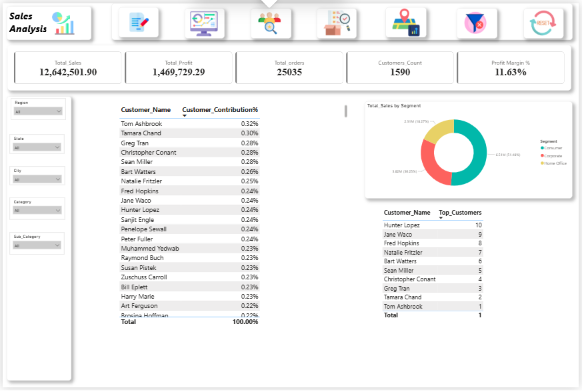

This screenshot's page, from the dashboard's own definition file:
{"tool":"powerbi","page":{"name":"Root_Cause_Analysis","canvas":[1280,720],"ordinal":1},"visuals":[{"type":"shape","box":[50,20,1195,105],"z":0},{"type":"shape","box":[423.3,360,821.7,348.3],"z":1000},{"type":"shape","box":[50,146.7,346.7,561.7],"z":2000},{"type":"shape","box":[423.3,146.7,821.7,188.3],"z":3000},{"type":"actionButton","box":[0,0,100,40],"z":4000},{"type":"cardVisual","fields":{"Data":["GlobalSuperStore.Total_Sales","GlobalSuperStore.Total_Profit","GlobalSuperStore.Total_orders","GlobalSuperStore.Total_Quantity","GlobalSuperStore.Profit Margin %","GlobalSuperStore.Recency"]},"box":[50,20,1195,105],"z":5000},{"type":"clusteredBarChart","fields":{"Category":["GlobalSuperStore.Category","GlobalSuperStore.Sub_Category","GlobalSuperStore.Product_Name"],"Y":["GlobalSuperStore.Total_Sales","GlobalSuperStore.Total_Profit"]},"box":[423.3,160,821.7,163.3],"z":6000},{"type":"clusteredColumnChart","fields":{"Category":["GlobalSuperStore.Segment"],"Y":["GlobalSuperStore.Total_Sales","GlobalSuperStore.Total_orders"]},"box":[65,160,318.3,536.7],"z":7000},{"type":"pivotTable","fields":{"Rows":["GlobalSuperStore.Region","GlobalSuperStore.State","GlobalSuperStore.City","GlobalSuperStore.Segment","GlobalSuperStore.Customer_Name","GlobalSuperStore.Category","GlobalSuperStore.Sub_Category","GlobalSuperStore.Product_Name"],"Values":["GlobalSuperStore.Total_Sales","GlobalSuperStore.Total_Profit","GlobalSuperStore.Total_orders","GlobalSuperStore.Total_Quantity","GlobalSuperStore.Profit Margin %","GlobalSuperStore.Average_Discount%","GlobalSuperStore.Recency"]},"box":[423.3,360,821.7,336.7],"z":8000}]}

Visuals, with their boxes on the page's 1280x720 design canvas (x1, y1, x2, y2). These are canvas units, not pixel positions in the 583x391 screenshot, which may show the page scaled, cropped or inside an application window:
shape: select_region(50, 20, 1245, 125)
shape: select_region(423, 360, 1245, 708)
shape: select_region(50, 147, 397, 708)
shape: select_region(423, 147, 1245, 335)
actionButton: select_region(0, 0, 100, 40)
cardVisual - GlobalSuperStore.Total_Sales x GlobalSuperStore.Total_Profit: select_region(50, 20, 1245, 125)
clusteredBarChart - GlobalSuperStore.Category x GlobalSuperStore.Sub_Category: select_region(423, 160, 1245, 323)
clusteredColumnChart - GlobalSuperStore.Segment x GlobalSuperStore.Total_Sales: select_region(65, 160, 383, 697)
pivotTable - GlobalSuperStore.Region x GlobalSuperStore.State: select_region(423, 360, 1245, 697)
